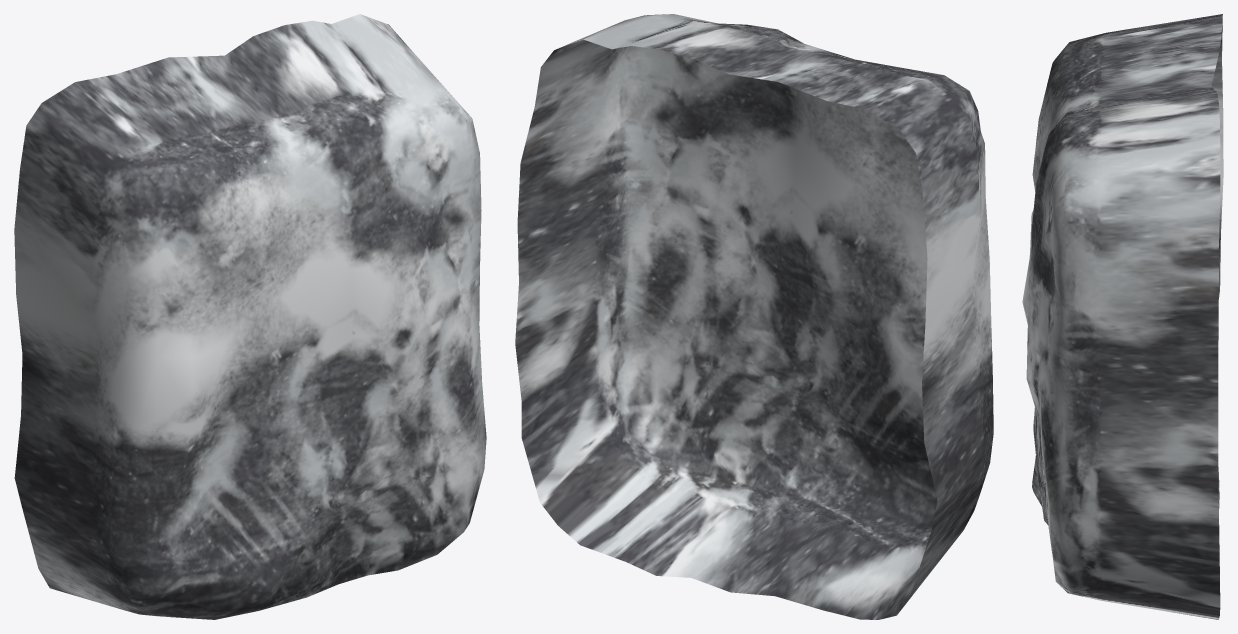
The model's file is SM_CliffStone2.fbx.
3 renders of one model, left to right at view 1: azimuth 30°, elevation 25°; view 2: azimuth 150°, elevation 25°; view 3: azimuth 270°, elevation 25°, orthographic. The views are drawn at different scales.
Visible parts, largest first — view 1: 세로; view 2: 세로; view 3: 세로.
Part boxes in pixels (x1,y1,x2,y2): 세로: (14, 14, 486, 619); 세로: (515, 14, 993, 619); 세로: (1022, 14, 1223, 619).
Size of the model in its own units: 660 by 798 by 295.
